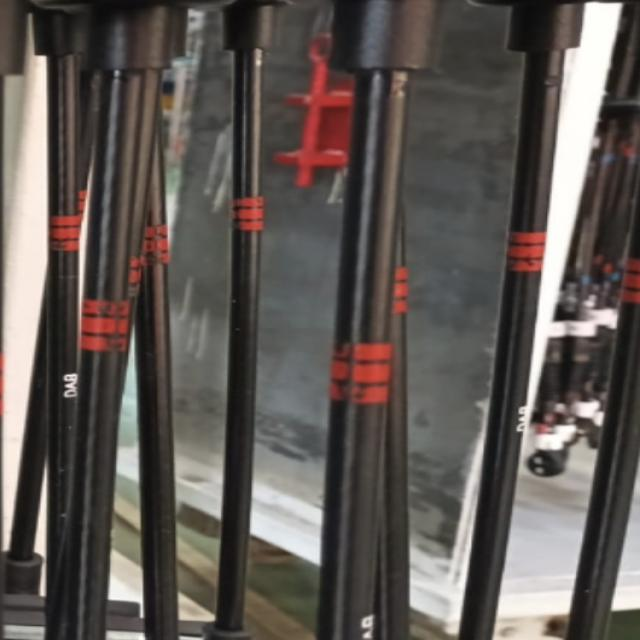red: (333, 341, 389, 405), (82, 298, 124, 352), (507, 231, 543, 275), (47, 217, 82, 254), (232, 198, 267, 232), (142, 228, 172, 263)
